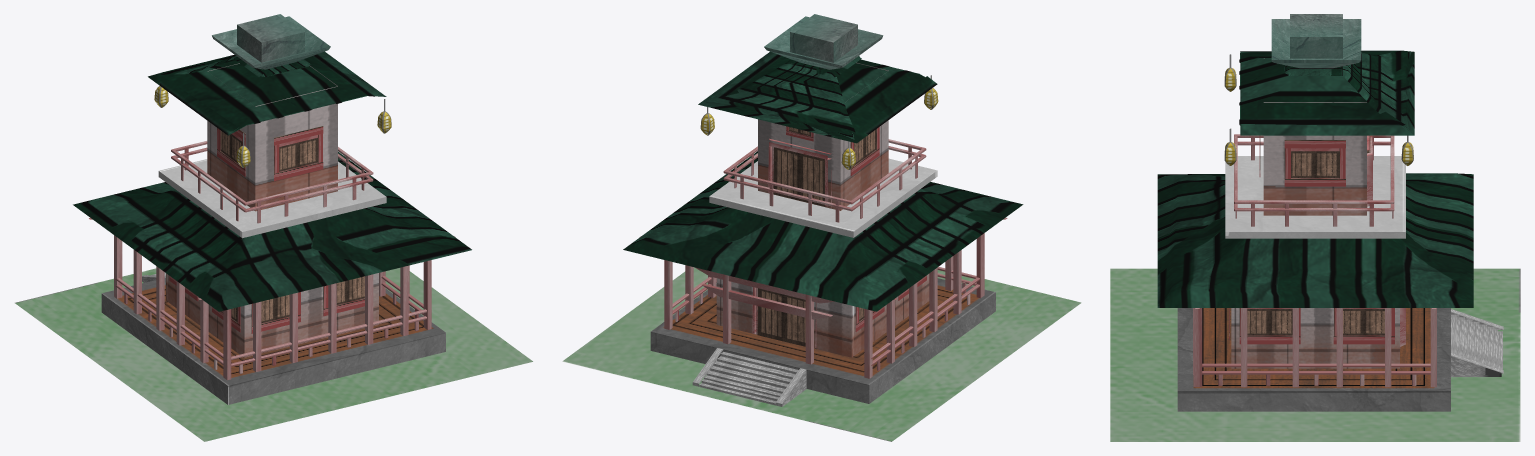
File: Castelinho.fbx
3 views of the same model, side by side, from view 1: azimuth 30°, elevation 25°; view 2: azimuth 150°, elevation 25°; view 3: azimuth 270°, elevation 25° (orthographic). The views are drawn at different scales.
Visible parts, largest first — view 1: polySurface81, Telhado_baixo, pCube12, polySurface10, polySurface13, polySurface11, Corrimãos3, polySurface149, pCube39, pCube72, pCube38, pCube77 (+13 smaller); view 2: polySurface81, Telhado_baixo, pCube12, polySurface13, polySurface11, polySurface10, Barreiras1, polySurface149, polySurface238, pCube39, polySurface237, Corrimãos3 (+13 smaller); view 3: polySurface81, Telhado_baixo, pCube12, polySurface13, polySurface10, polySurface11, Barreiras1, pCube71, polySurface149, pCube39, pCube38, Corrimãos3 (+9 smaller).
Boxes of the visible parts, x1=… form: polySurface81: x1=15, y1=268, x2=532, y2=441; Telhado_baixo: x1=73, y1=151, x2=471, y2=311; pCube12: x1=148, y1=51, x2=386, y2=135; polySurface10: x1=207, y1=63, x2=337, y2=211; polySurface13: x1=158, y1=159, x2=386, y2=238; polySurface11: x1=166, y1=273, x2=378, y2=357; Corrimãos3: x1=115, y1=275, x2=426, y2=373; polySurface149: x1=171, y1=141, x2=373, y2=223; pCube39: x1=237, y1=14, x2=304, y2=62; pCube72: x1=274, y1=126, x2=323, y2=181; pCube38: x1=212, y1=16, x2=330, y2=69; pCube77: x1=323, y1=276, x2=364, y2=316; polySurface81: x1=562, y1=267, x2=1081, y2=441; Telhado_baixo: x1=623, y1=151, x2=1023, y2=311; pCube12: x1=698, y1=51, x2=937, y2=143; polySurface13: x1=709, y1=158, x2=937, y2=237; polySurface11: x1=716, y1=274, x2=929, y2=357; polySurface10: x1=758, y1=62, x2=888, y2=210; Barreiras1: x1=692, y1=348, x2=806, y2=406; polySurface149: x1=723, y1=139, x2=926, y2=222; polySurface238: x1=768, y1=138, x2=831, y2=207; pCube39: x1=790, y1=14, x2=857, y2=62; polySurface237: x1=752, y1=287, x2=816, y2=347; Corrimãos3: x1=672, y1=266, x2=979, y2=370; polySurface81: x1=1110, y1=268, x2=1520, y2=441; Telhado_baixo: x1=1157, y1=173, x2=1473, y2=307; pCube12: x1=1239, y1=50, x2=1414, y2=135; polySurface13: x1=1225, y1=156, x2=1405, y2=238; polySurface10: x1=1263, y1=58, x2=1366, y2=215; polySurface11: x1=1231, y1=308, x2=1399, y2=368; Barreiras1: x1=1451, y1=309, x2=1503, y2=376; pCube71: x1=1284, y1=140, x2=1345, y2=186; polySurface149: x1=1234, y1=134, x2=1394, y2=226; pCube39: x1=1290, y1=14, x2=1342, y2=58; pCube38: x1=1271, y1=19, x2=1361, y2=68; Corrimãos3: x1=1202, y1=363, x2=1430, y2=385.
Size of the model in its own units: 94.04 by 83.09 by 94.04.
